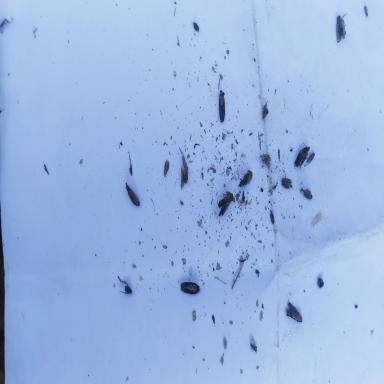pbw: (285, 298, 304, 324), (294, 142, 310, 170), (217, 191, 234, 217), (125, 182, 140, 207), (336, 14, 347, 43), (218, 90, 226, 123), (180, 282, 200, 295), (238, 171, 253, 188), (181, 155, 189, 183), (305, 153, 315, 166), (164, 159, 170, 177), (181, 167, 184, 190)
